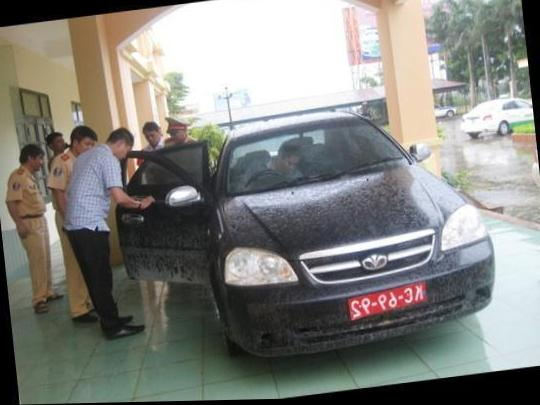License_Plate: (346, 278, 428, 324)
